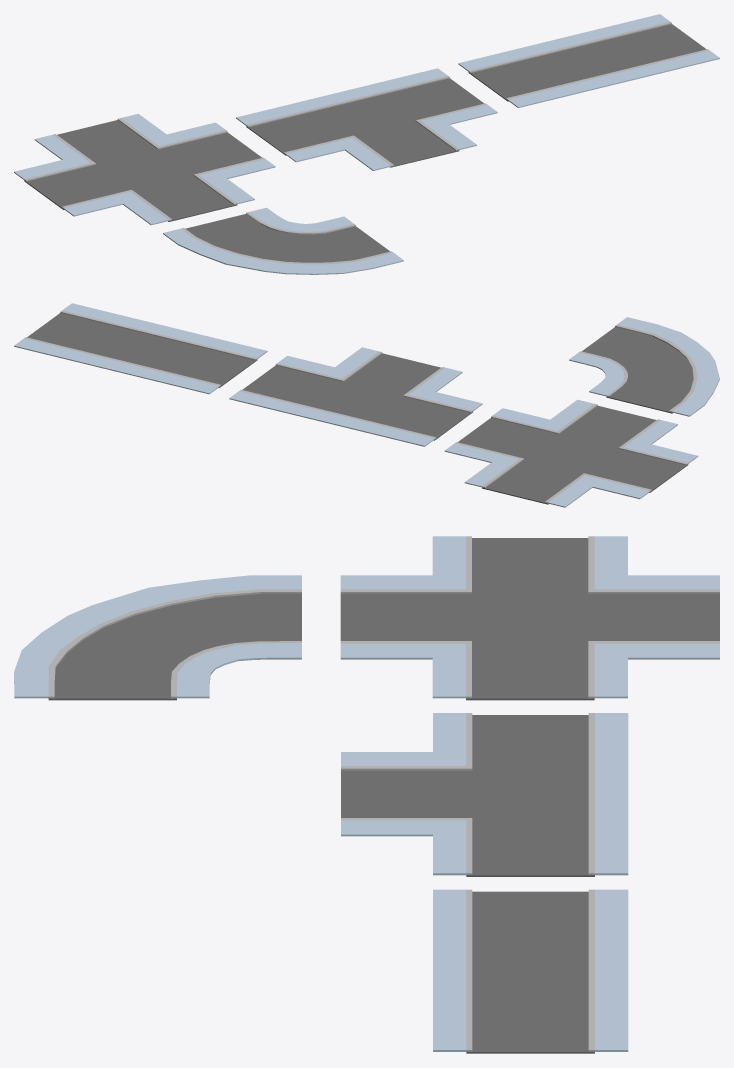
3 views of the same model, one above another, from view 1: azimuth 30°, elevation 25°; view 2: azimuth 150°, elevation 25°; view 3: azimuth 270°, elevation 25° (orthographic). The views are drawn at different scales.
Parts seen in each view (by area): view 1: 4-way road, 3-way T road, 2-way road, Curve road; view 2: 4-way road, 3-way T road, 2-way road, Curve road; view 3: 4-way road, 3-way T road, 2-way road, Curve road.
Boxes of the visible parts, box(x1,y1,x2,y2) form: 4-way road: box(14, 113, 275, 225); 3-way T road: box(236, 68, 497, 170); 2-way road: box(458, 14, 719, 107); Curve road: box(163, 207, 403, 274); 4-way road: box(444, 399, 698, 507); 3-way T road: box(229, 347, 482, 446); 2-way road: box(14, 303, 267, 394); Curve road: box(569, 317, 719, 416); 4-way road: box(340, 536, 719, 700); 3-way T road: box(341, 713, 628, 876); 2-way road: box(433, 889, 628, 1053); Curve road: box(14, 575, 301, 700).
Bounding box in the file's own units: 631 × 2.13 × 366.
